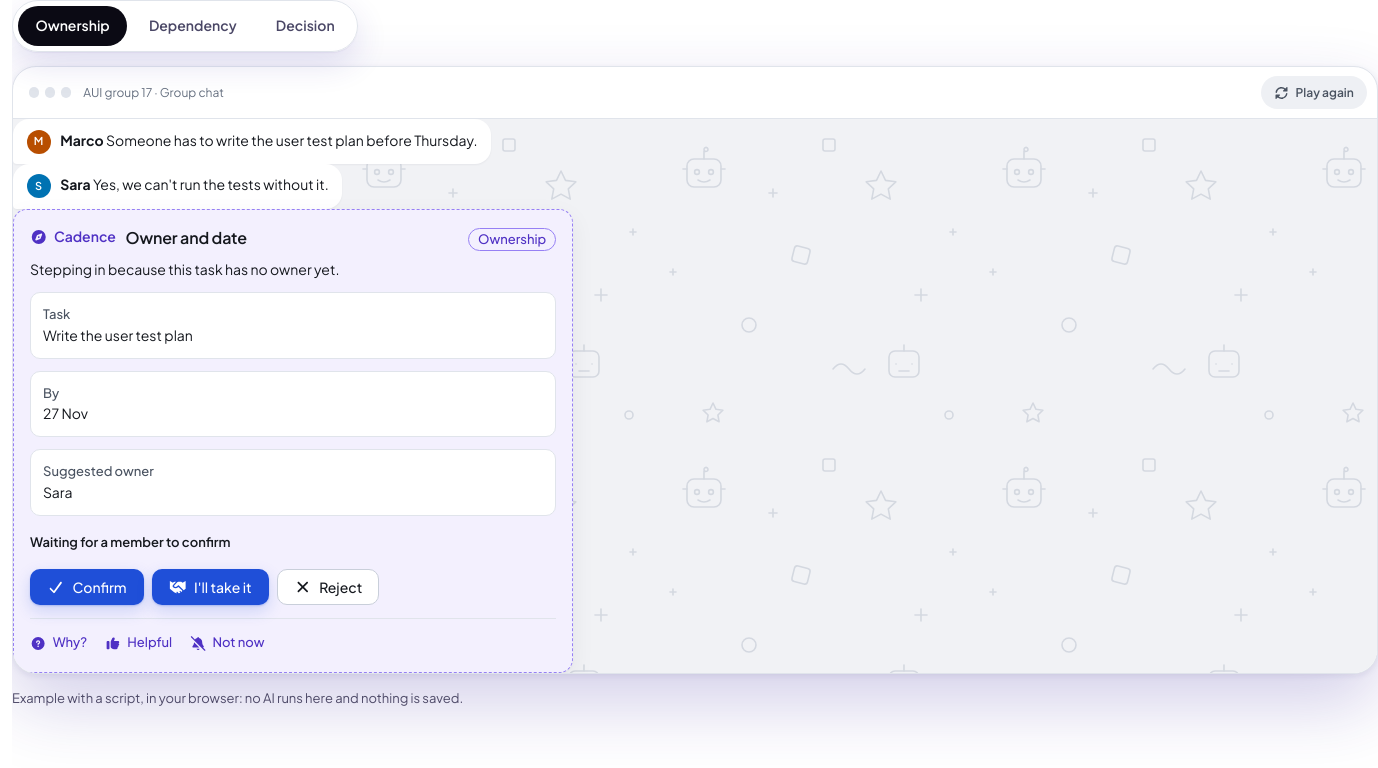
Scenario: LiveDemo › confirming the ownership card credits the visitor and adds the task for Sara
Click the button "Confirm" at (87, 587), box [30,569,144,605]
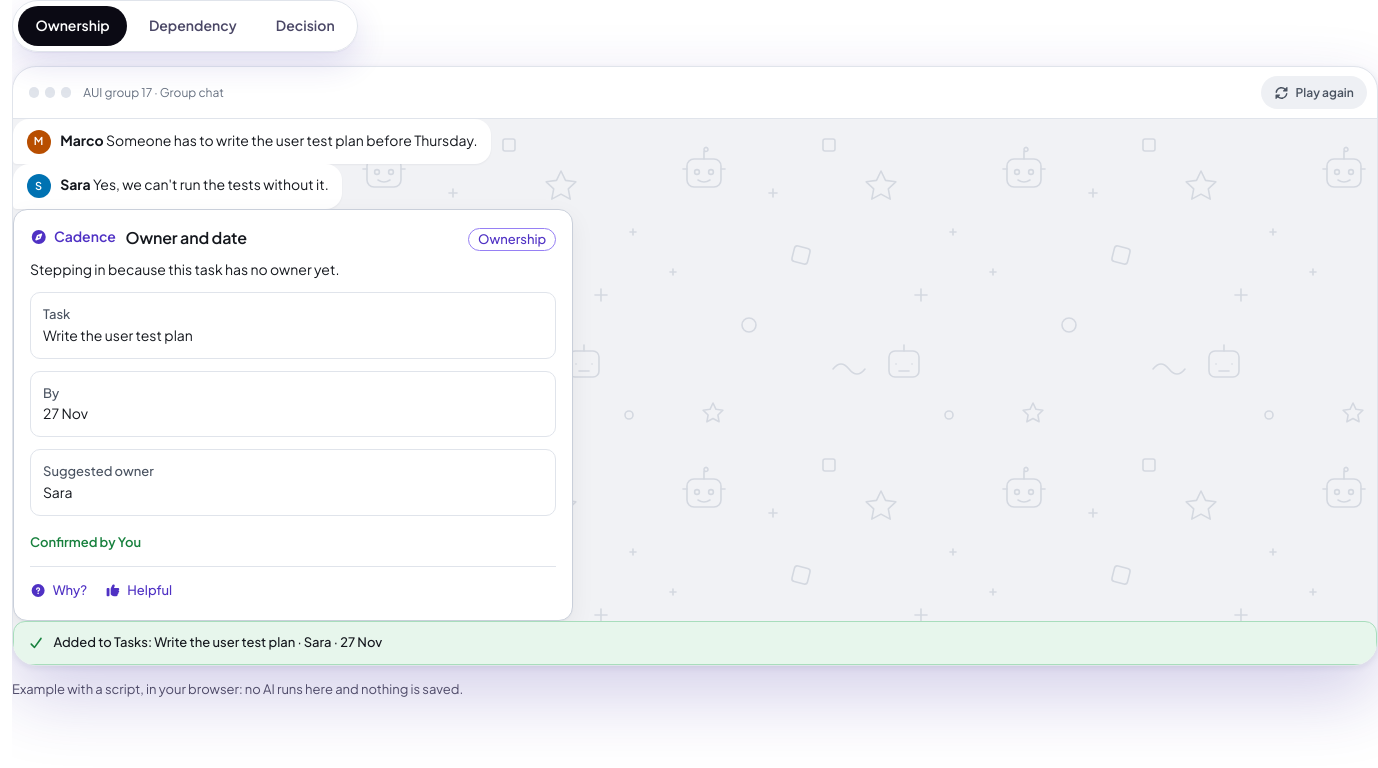
Expected: the text "Confirmed by You" is shown, [30,533,141,553]
Expected: the text "Added to Tasks: Write the user test plan · Sara · 27 Nov" is shown, [13,621,1377,665]
